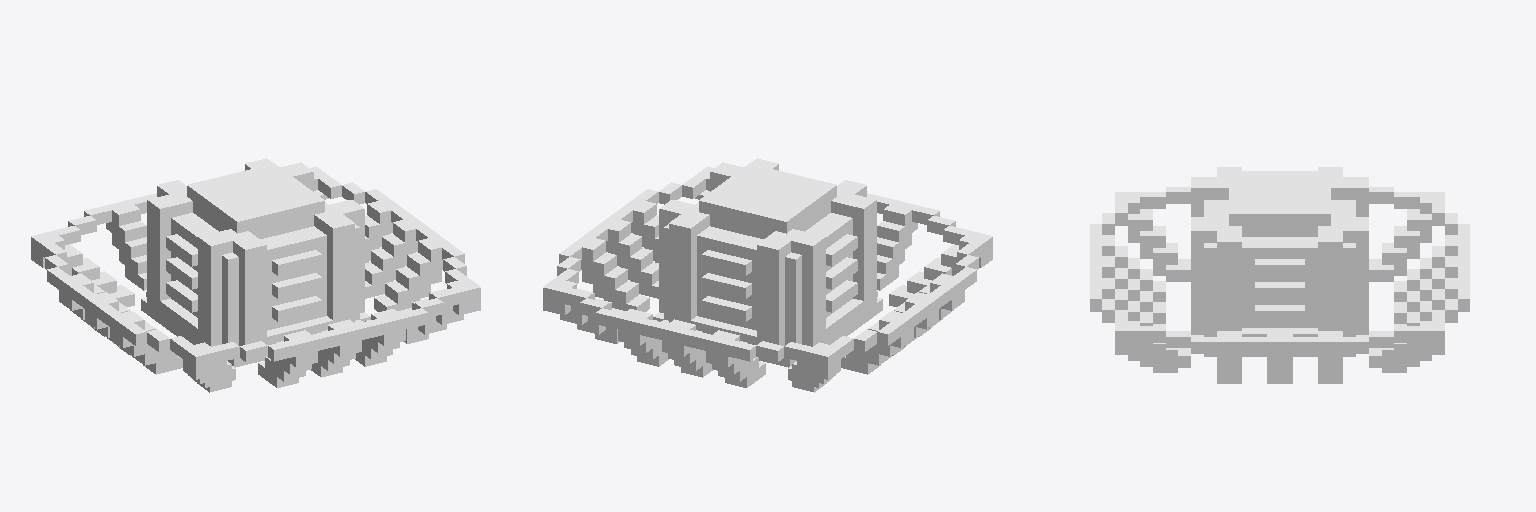
The model's file is fort-1.obj.
The picture shows the model from 3 angles: view 1: azimuth 30°, elevation 25°; view 2: azimuth 150°, elevation 25°; view 3: azimuth 270°, elevation 25°; orthographic projection.
Parts seen in each view (by area): view 1: object 1; view 2: object 1; view 3: object 1.
Part boxes in pixels (bbox=[...]): object 1: bbox=[31, 158, 480, 392]; object 1: bbox=[543, 158, 992, 392]; object 1: bbox=[1090, 167, 1469, 383].
Size of the model in its own units: 3 by 1.1 by 3.